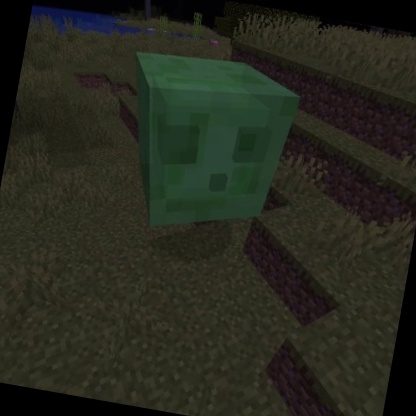slime: (102, 38, 313, 255)
